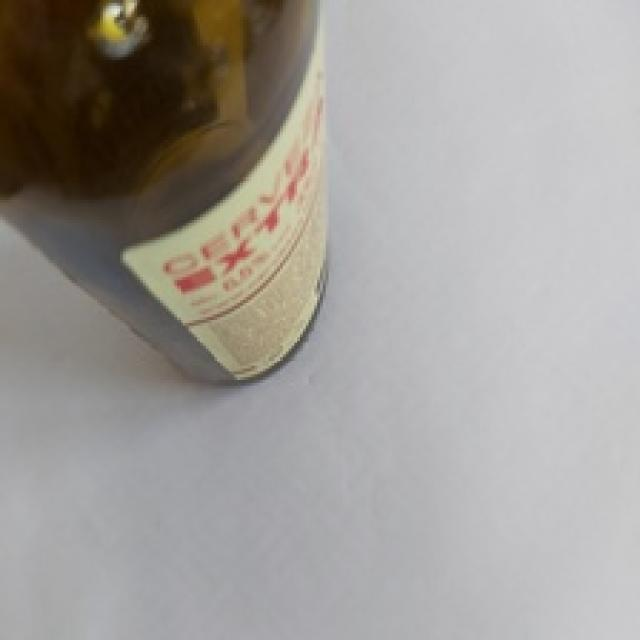Glass: (0, 0, 330, 390)
